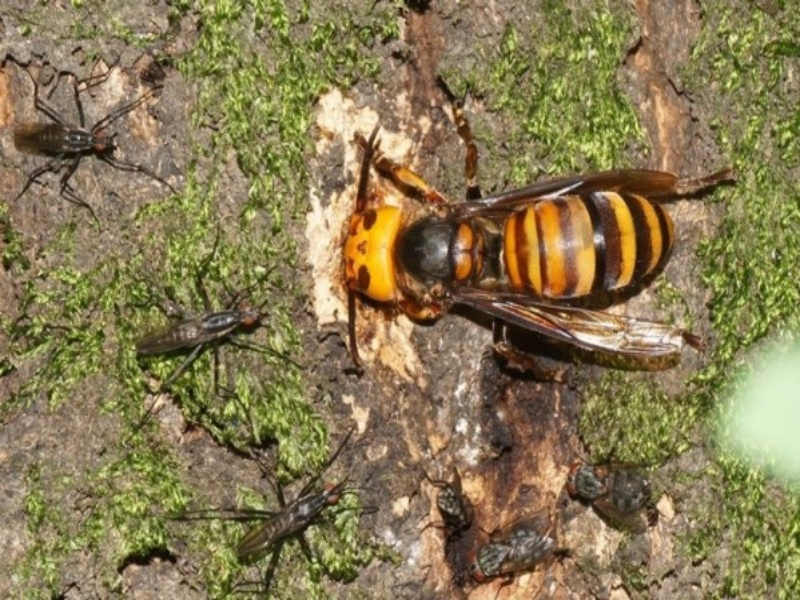asian_giant_hornet: (339, 146, 694, 358)
